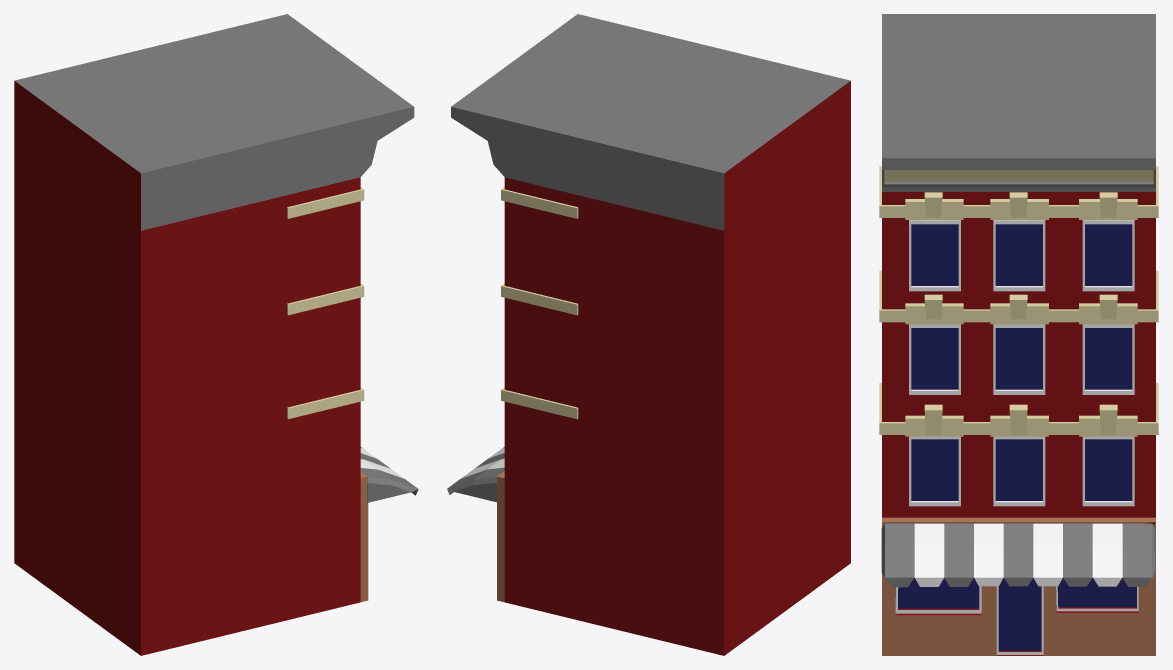
File: Дом 3.fbx
3 renders of one model, left to right at view 1: azimuth 30°, elevation 25°; view 2: azimuth 150°, elevation 25°; view 3: azimuth 270°, elevation 25°, orthographic. The views are drawn at different scales.
Parts seen in each view (by area): view 1: Cube; view 2: Cube; view 3: Cube.
Boxes of the visible parts, x1,y1,x2,y2 form: Cube: (14,14,418,655); Cube: (447,14,850,655); Cube: (879,14,1158,655).
Bounding box in the file's own units: 732 × 1210 × 587.
